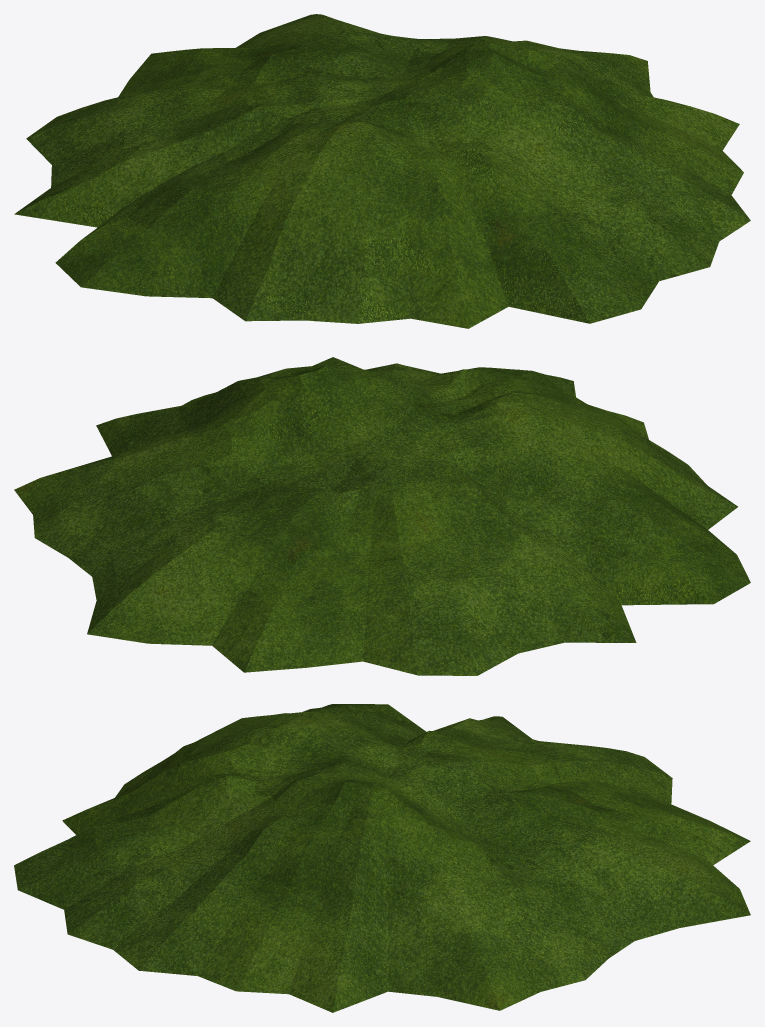
The model's file is rock_moss_patch_v01.glb.
The picture shows the model from 3 angles, top to bottom: view 1: azimuth 30°, elevation 25°; view 2: azimuth 150°, elevation 25°; view 3: azimuth 270°, elevation 25°; orthographic projection. The views are drawn at different scales.
Parts seen in each view (by area): view 1: rock_moss_patch_v01; view 2: rock_moss_patch_v01; view 3: rock_moss_patch_v01.
Part boxes in pixels (left/top/right/bottom): rock_moss_patch_v01: left=14, top=14, right=750, bottom=328; rock_moss_patch_v01: left=14, top=357, right=750, bottom=675; rock_moss_patch_v01: left=14, top=704, right=750, bottom=1012.
Size of the model in its own units: 0.6535 by 0.118 by 0.6613.
Materials: 1 (1 with a texture image).
